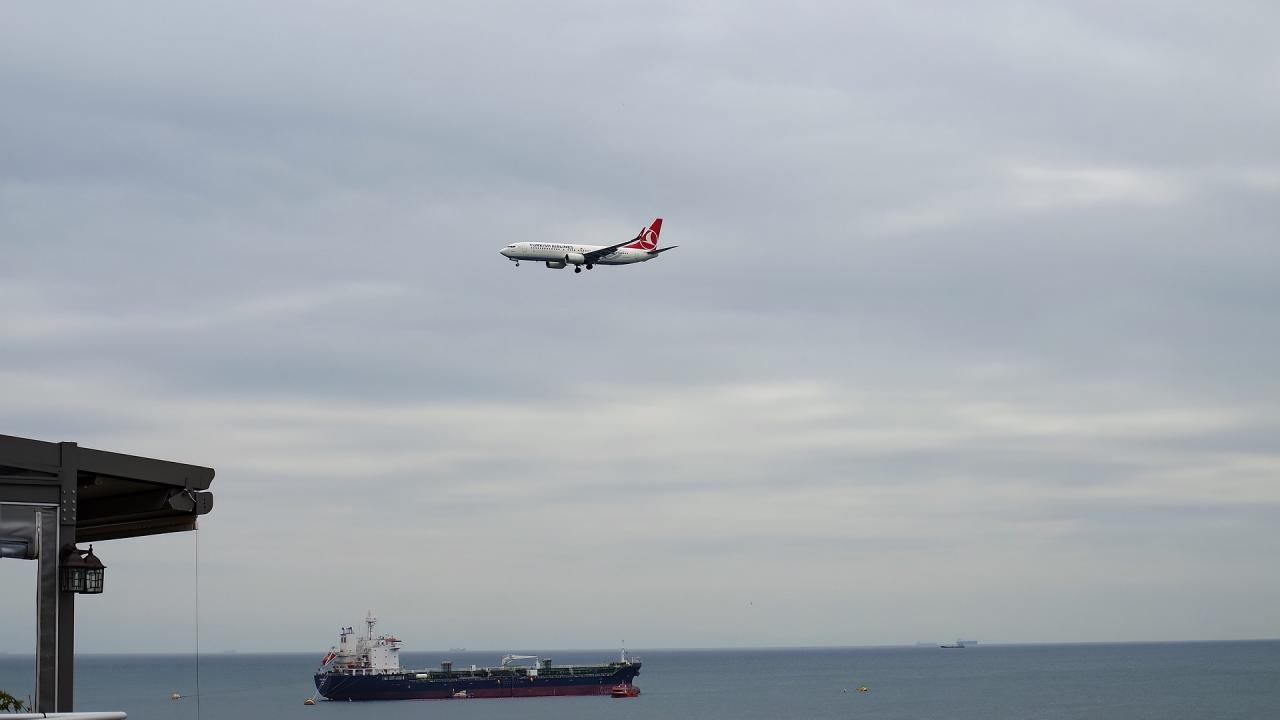Airplane: (492, 205, 688, 282)
